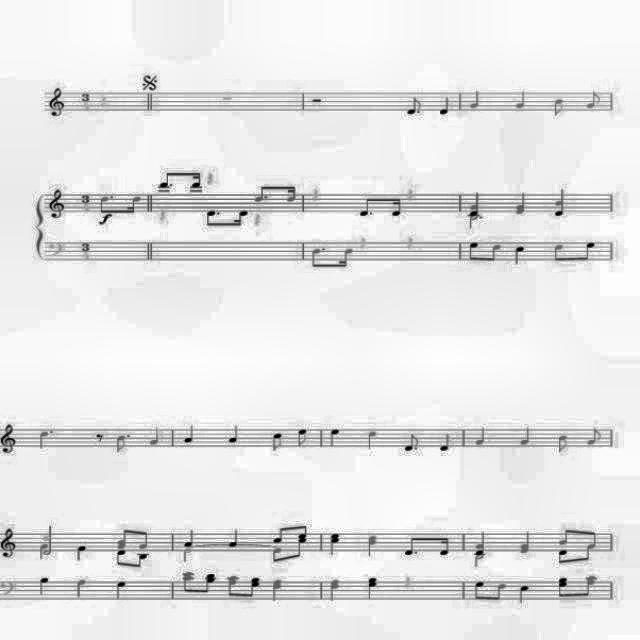Bass-clef: (45, 236, 63, 264), (0, 573, 12, 602)
Eighth-note: (394, 83, 428, 127), (575, 85, 609, 114), (430, 422, 454, 458), (436, 86, 456, 125), (540, 229, 560, 265), (576, 228, 596, 264), (146, 417, 166, 451), (398, 424, 418, 456), (584, 422, 604, 452), (153, 162, 171, 194), (546, 90, 566, 118), (352, 192, 370, 222), (231, 196, 247, 228), (460, 236, 478, 264), (488, 233, 502, 269), (489, 574, 506, 602), (556, 430, 572, 458), (384, 192, 402, 216), (308, 236, 320, 272), (581, 572, 599, 596), (267, 426, 281, 456), (554, 574, 570, 600), (470, 577, 486, 603), (114, 524, 128, 552), (128, 184, 140, 216), (200, 203, 218, 224), (340, 243, 354, 269), (201, 567, 215, 593), (192, 164, 204, 192), (252, 176, 264, 204), (296, 426, 308, 454), (180, 570, 194, 594), (132, 548, 148, 568), (580, 539, 596, 559), (438, 531, 450, 557), (116, 428, 124, 464), (138, 528, 150, 552), (400, 540, 412, 564), (554, 527, 570, 545), (586, 526, 598, 550), (270, 526, 284, 546), (95, 191, 108, 211), (552, 548, 568, 564), (114, 550, 126, 566), (294, 538, 306, 554), (272, 548, 280, 568)
Full-rest: (218, 87, 238, 115)
Half-note: (42, 520, 54, 558), (472, 552, 484, 568)
Half-rest: (305, 93, 331, 109)
Quarter-note: (172, 414, 202, 461), (358, 522, 379, 572), (506, 186, 532, 224), (504, 86, 532, 118), (542, 186, 564, 226), (70, 577, 92, 615), (509, 421, 535, 451), (515, 522, 535, 558), (222, 522, 242, 556), (224, 416, 243, 450), (362, 416, 378, 456), (466, 422, 486, 454), (266, 575, 286, 603), (470, 527, 490, 555), (360, 573, 378, 603), (464, 186, 486, 210), (106, 574, 126, 600), (326, 422, 342, 454), (512, 574, 532, 598), (178, 531, 198, 551), (72, 543, 86, 569), (34, 424, 46, 454), (468, 90, 484, 112), (32, 576, 46, 600), (512, 242, 524, 266), (326, 578, 338, 602), (36, 538, 44, 566), (326, 528, 334, 556), (466, 213, 478, 224)
Treble-clef: (0, 414, 24, 466), (44, 176, 68, 224), (43, 81, 65, 127), (0, 513, 20, 563)
